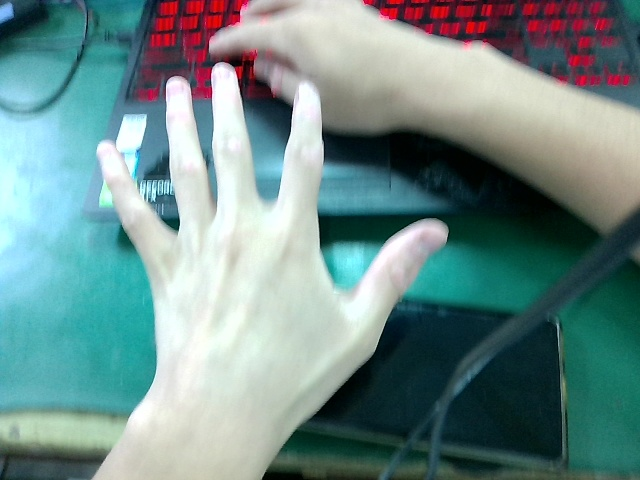paper: (96, 47, 434, 463)
